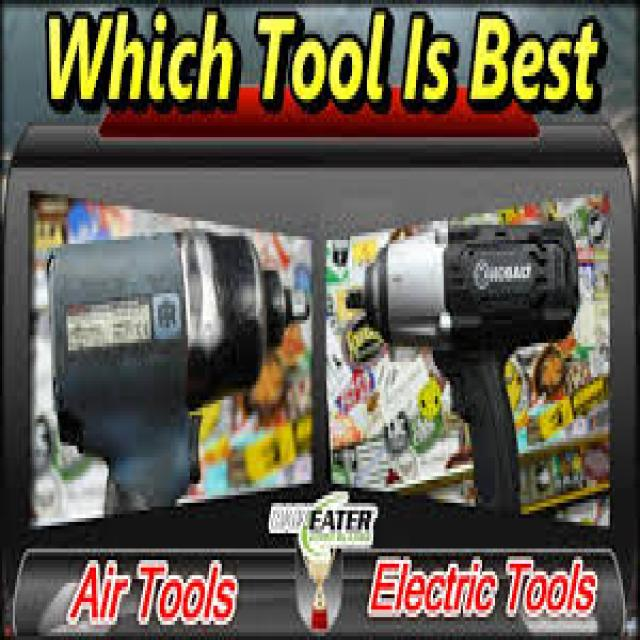driller: (47, 236, 310, 514), (342, 229, 578, 518)
